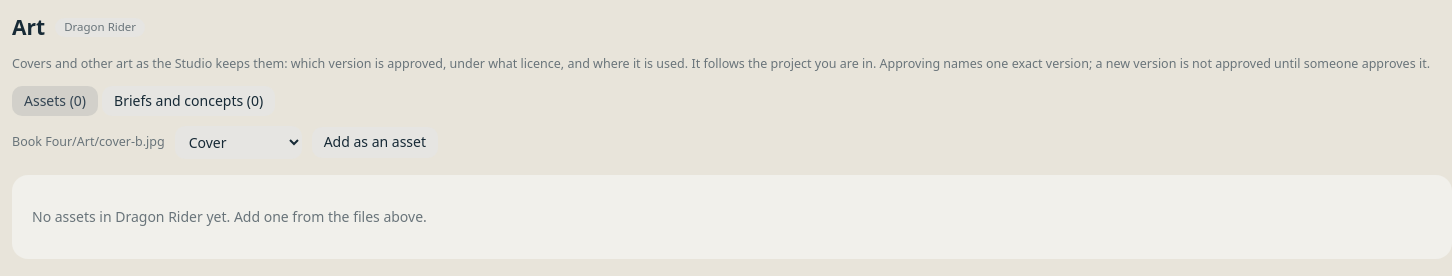
the Art page › offers only this project’s files to add, picks a lone one, and adds it as the chosen kind
Click the button "Add as an asset" at (375, 142), box [312,127,438,158]
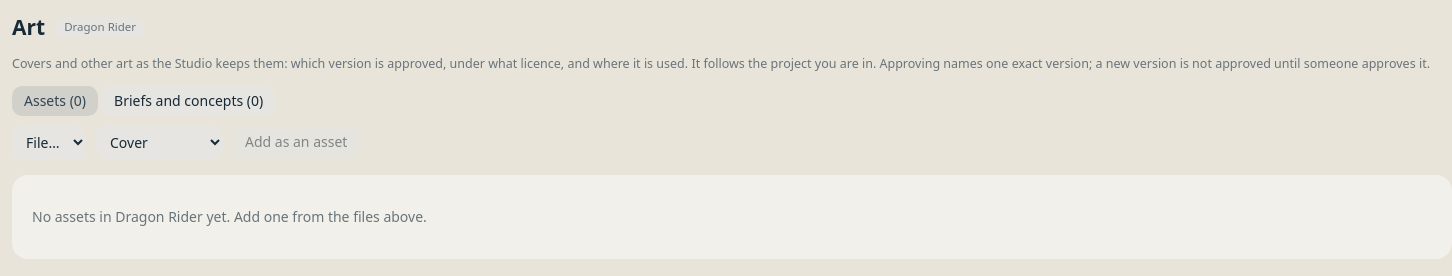
Expected: the dropdown named "File" is shown, [12,126,86,159]
Expected: the button "Add as an asset" is disabled, [233,127,359,158]
